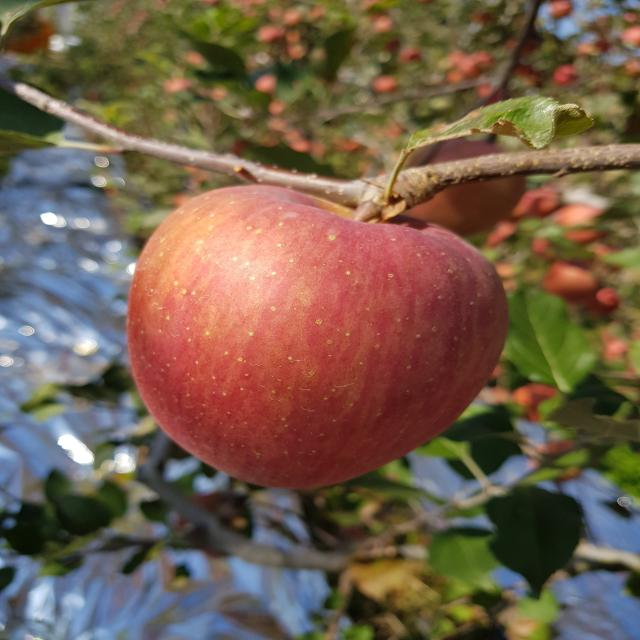fresh: (118, 176, 518, 503)
